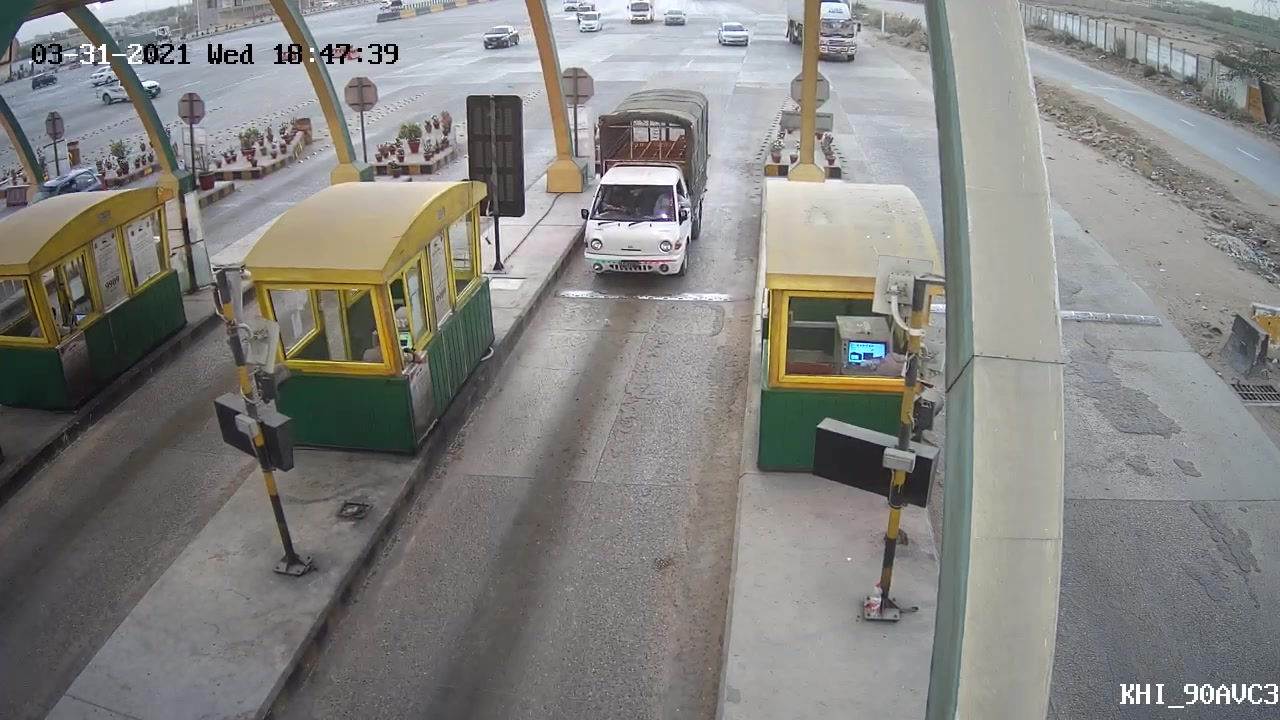F3: (567, 86, 725, 287)
